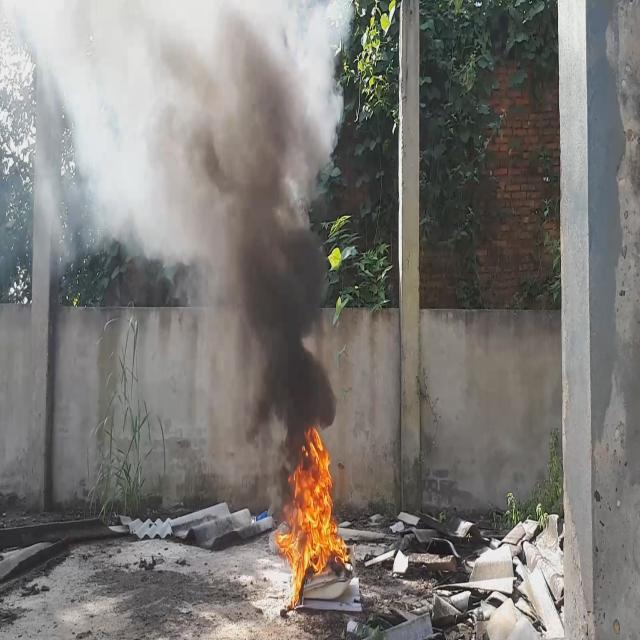Fire: (276, 422, 350, 608)
Smoke: (0, 0, 342, 492)
